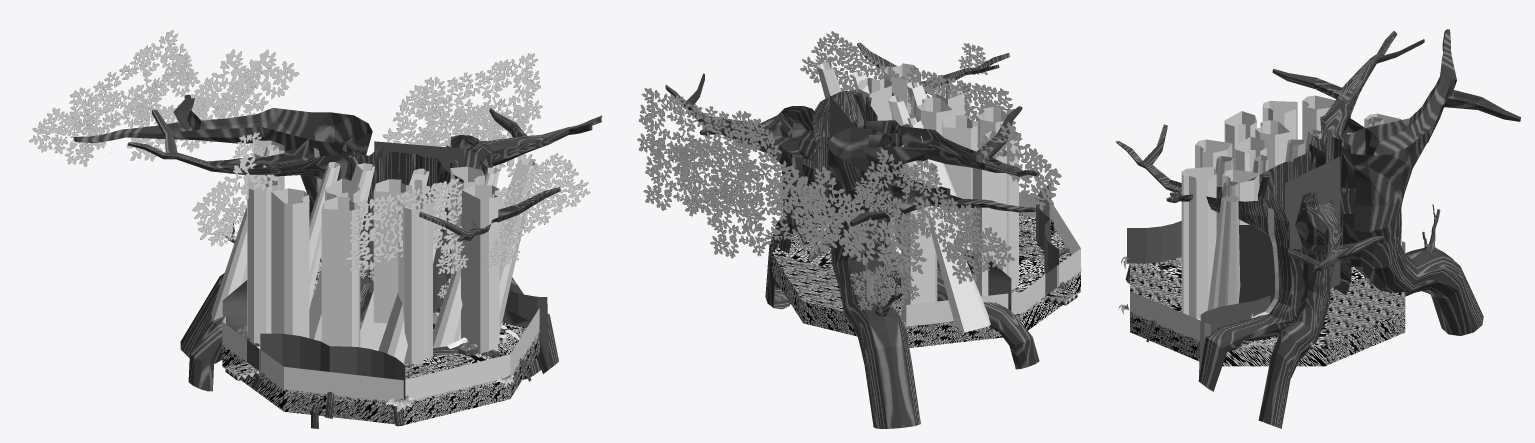
The model's file is mri_00.dae.
The picture shows the model from 3 angles, left to right: view 1: azimuth 30°, elevation 25°; view 2: azimuth 150°, elevation 25°; view 3: azimuth 270°, elevation 25°; orthographic projection. The views are drawn at different scales.
Parts seen in each view (by area): view 1: S_ha_02, polySurface508_q00079, S_ha_01, A_fream, S_dai, polySurface480_q00095, polySurface498_q00099, polySurface507_q00078, polySurface501_q00100, polySurface489_q00097, polySurface510_q00002, polySurface477_q00094 (+24 smaller); view 2: S_ha_02, polySurface508_q00079, S_ha_01, polySurface507_q00078, polySurface506_q00077, S_dai, A_fream, S_yuka_04, polySurface477_q00094, polySurface505_q00076, S_hika_07C, polySurface474_q00093 (+16 smaller); view 3: polySurface508_q00079, polySurface506_q00077, polySurface505_q00076, S_yuka_04, polySurface480_q00095, S_dai, polySurface507_q00078, pPlane9, A_trees_09, polySurface510_q00002, S_hika_05C, pCylinder15_q00053 (+15 smaller).
Boxes of the visible parts, x1,y1,x2,y2 form: S_ha_02: [29, 30, 590, 274]; polySurface508_q00079: [73, 94, 372, 363]; S_ha_01: [126, 49, 299, 246]; A_fream: [222, 308, 539, 400]; S_dai: [222, 331, 539, 424]; polySurface480_q00095: [461, 184, 499, 354]; polySurface498_q00099: [271, 188, 309, 338]; polySurface507_q00078: [127, 110, 360, 391]; polySurface501_q00100: [321, 196, 360, 347]; polySurface489_q00097: [398, 193, 432, 364]; polySurface510_q00002: [260, 333, 405, 399]; polySurface477_q00094: [247, 175, 277, 345]; S_ha_02: [637, 31, 1015, 284]; polySurface508_q00079: [826, 128, 1036, 428]; S_ha_01: [761, 122, 1061, 274]; polySurface507_q00078: [859, 106, 1040, 369]; polySurface506_q00077: [665, 73, 820, 309]; S_dai: [772, 253, 1080, 347]; A_fream: [906, 192, 1080, 326]; S_yuka_04: [772, 214, 1070, 326]; polySurface477_q00094: [972, 148, 1008, 296]; polySurface505_q00076: [800, 42, 1009, 245]; S_hika_07C: [913, 162, 989, 332]; polySurface474_q00093: [901, 161, 937, 322]; polySurface508_q00079: [1341, 29, 1520, 335]; polySurface506_q00077: [1258, 192, 1383, 428]; polySurface505_q00076: [1115, 124, 1303, 391]; S_yuka_04: [1130, 257, 1405, 345]; polySurface480_q00095: [1181, 167, 1216, 318]; S_dai: [1130, 312, 1405, 366]; polySurface507_q00078: [1272, 31, 1424, 281]; pPlane9: [1285, 156, 1340, 288]; A_trees_09: [1238, 225, 1274, 303]; polySurface510_q00002: [1127, 221, 1181, 263]; S_hika_05C: [1207, 198, 1231, 310]; pCylinder15_q00053: [1309, 137, 1351, 295].
Size of the model in its own units: 261 by 168 by 208.
